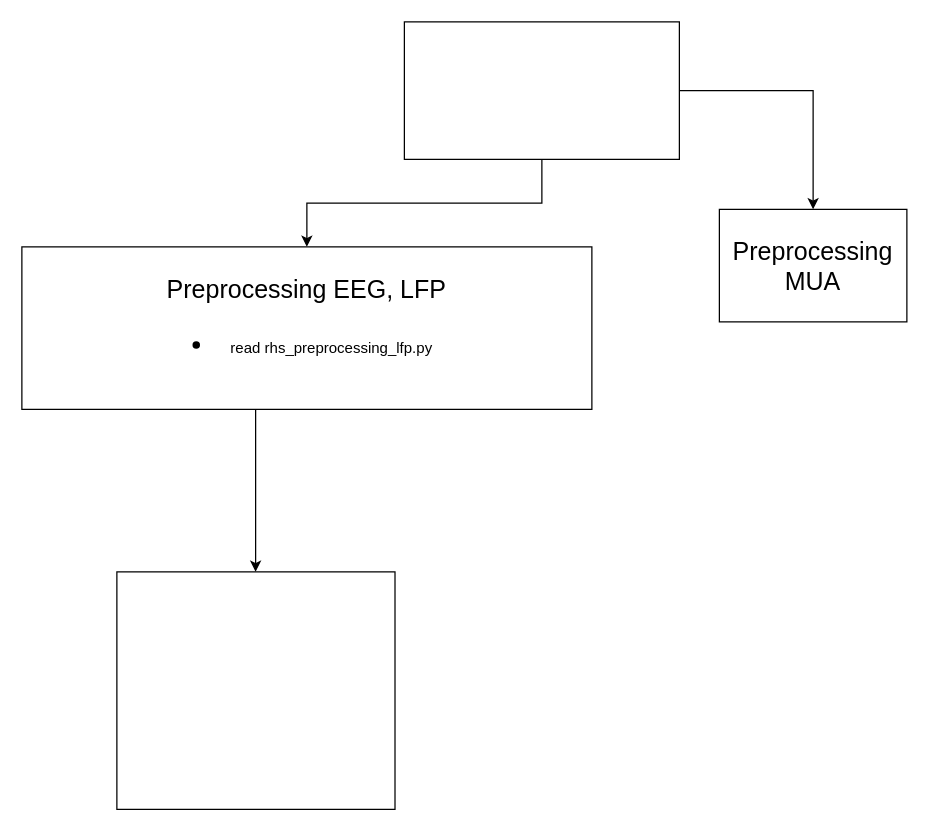
Some shapes in this 929 by 831 pixel diagram are drawn without their labels. The centre of each missing label's shape, as x and y in pixels:
"Power and Phase of LFP" goes at pixel 255 690.
"Raw Data INTAN technologies, Stim/Recording System, ( rhs file)" goes at pixel 541 90.
